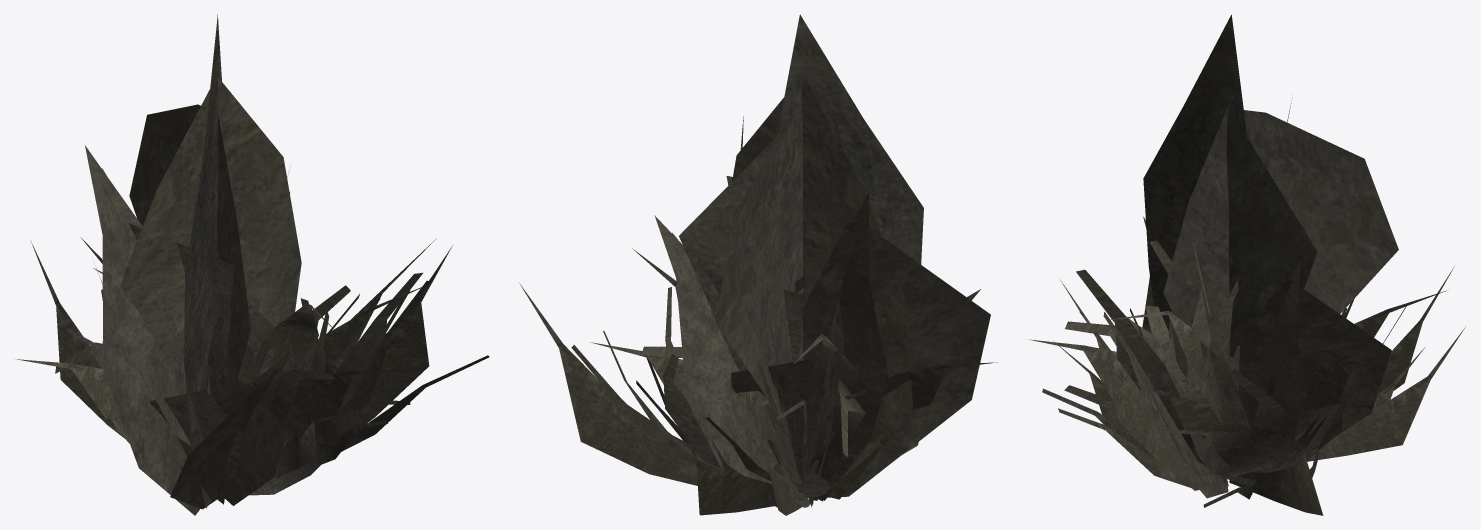
File: SM_GrassMesh_04.fbx
3 views of the same model, side by side, from view 1: azimuth 30°, elevation 25°; view 2: azimuth 150°, elevation 25°; view 3: azimuth 270°, elevation 25° (orthographic). The views are drawn at different scales.
Visible parts, largest first — view 1: SM_GrassMesh_04; view 2: SM_GrassMesh_04; view 3: SM_GrassMesh_04.
Part boxes in pixels (bbox=[...]): SM_GrassMesh_04: bbox=[17, 14, 489, 515]; SM_GrassMesh_04: bbox=[519, 14, 997, 515]; SM_GrassMesh_04: bbox=[1029, 14, 1465, 515].
Bounding box in the file's own units: 27.83 × 24.22 × 28.72.
